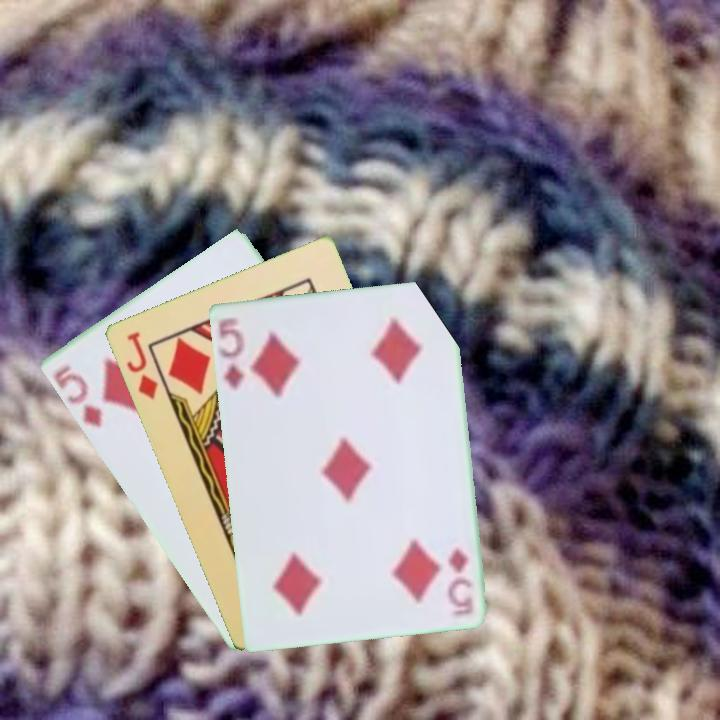5d: (49, 361, 105, 431), (214, 313, 247, 393), (444, 544, 477, 605)
Jd: (122, 328, 161, 402)
